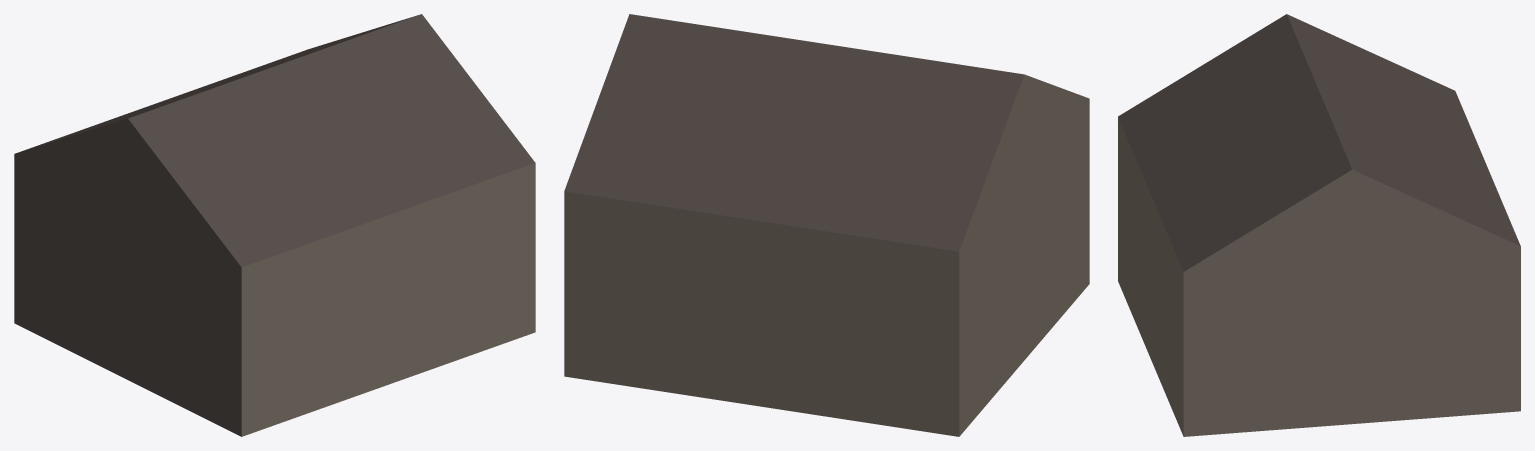
The picture shows the model from 3 angles, left to right: view 1: azimuth 30°, elevation 25°; view 2: azimuth 150°, elevation 25°; view 3: azimuth 270°, elevation 25°; orthographic projection. The views are drawn at different scales.
Parts seen in each view (by area): view 1: HP-w859424281; view 2: HP-w859424281; view 3: HP-w859424281.
Part boxes in pixels (left/top/right/bottom): HP-w859424281: left=14, top=14, right=535, bottom=436; HP-w859424281: left=564, top=14, right=1089, bottom=436; HP-w859424281: left=1118, top=14, right=1520, bottom=436.
Size of the model in its own units: 14.14 by 9.26 by 13.28.
